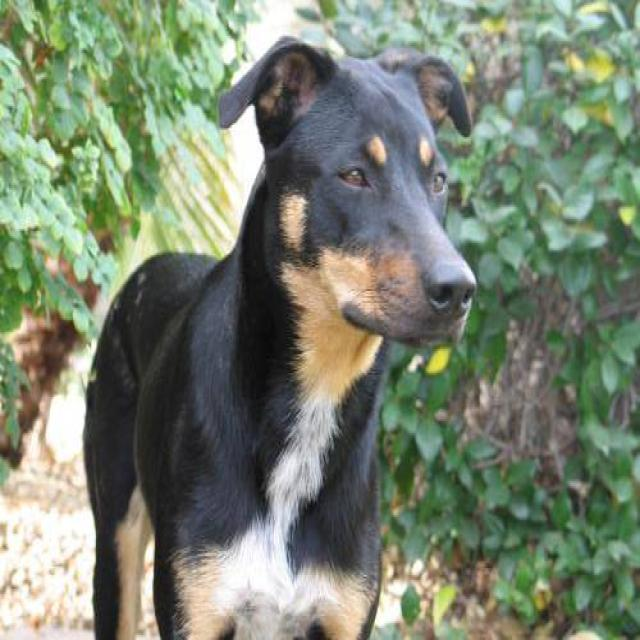dog: (80, 32, 478, 638)
